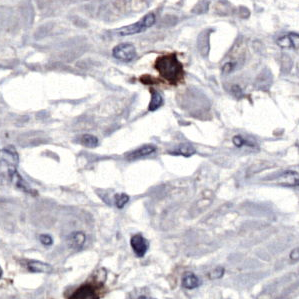Lymphocyte: (149, 50, 190, 85)
